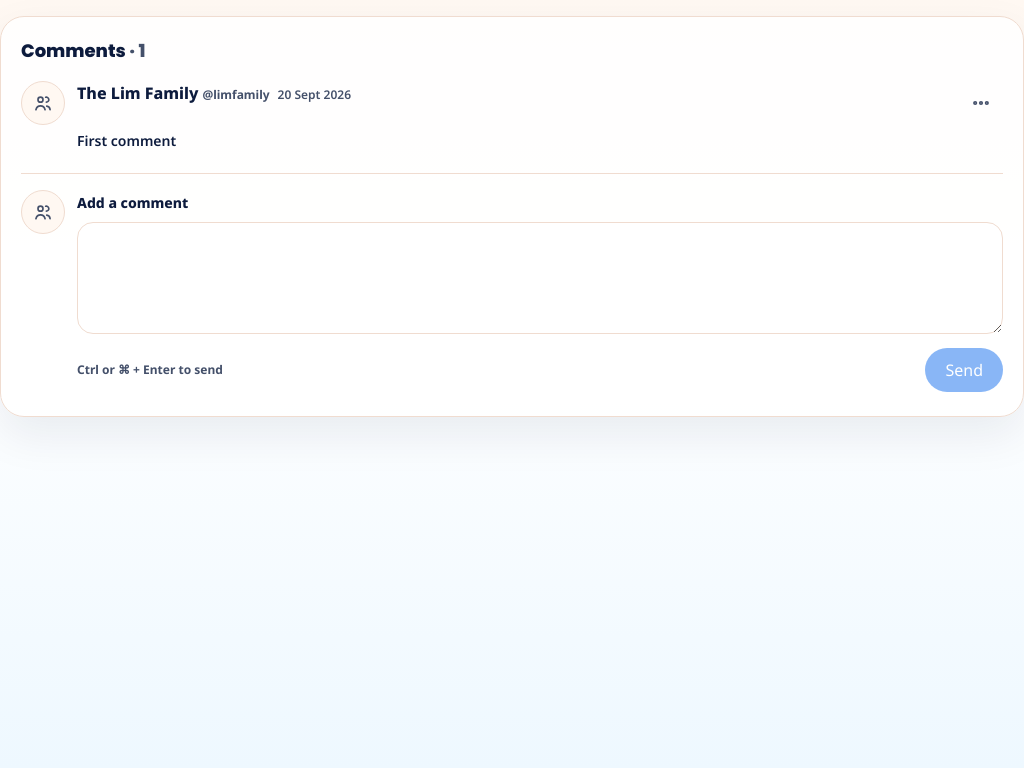
Moment Comments › shows distinct Comment actions for Moment author
Click the button named "Comment actions": [981, 103] box left=959, top=81, right=1003, bottom=125
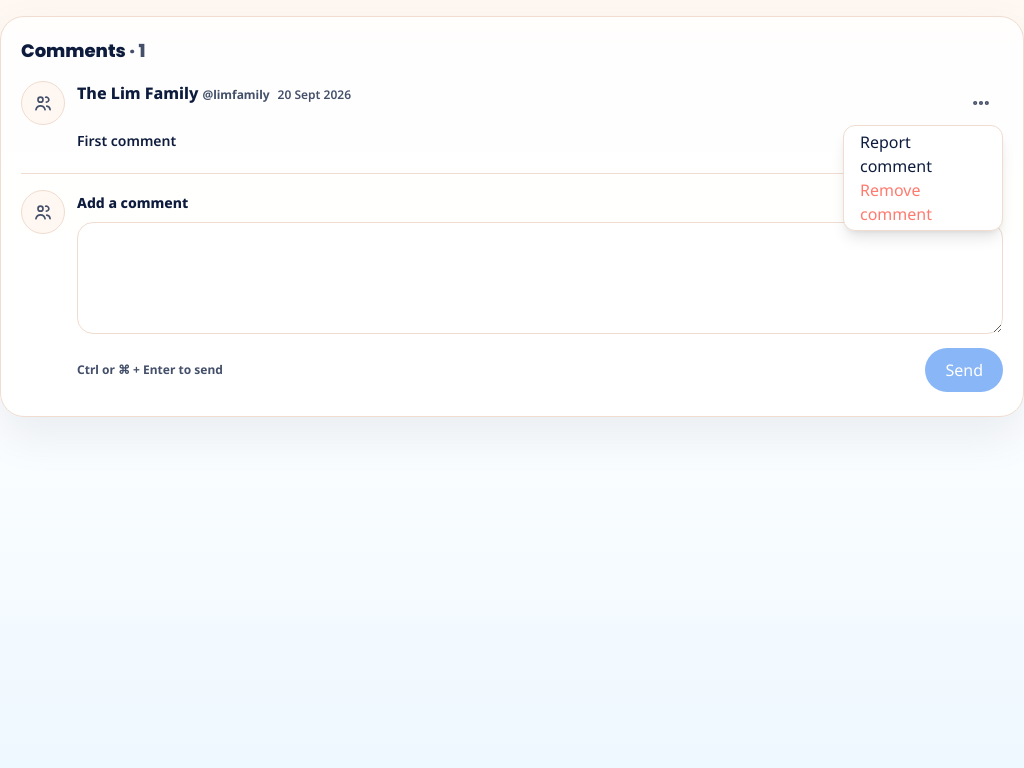
Click the button "Report comment": [923, 154] box left=848, top=130, right=998, bottom=178
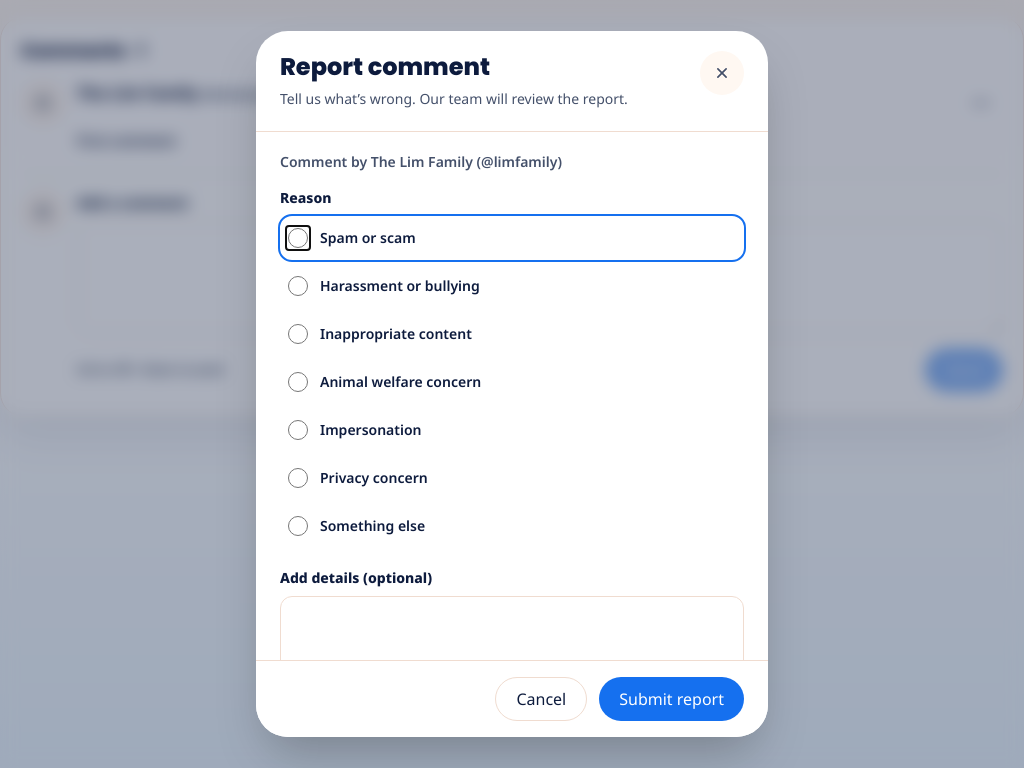
Now the dialog "Report comment" is shown
Now the text "Comment by The Lim Family (@limfamily)" is shown, box left=280, top=152, right=562, bottom=171
